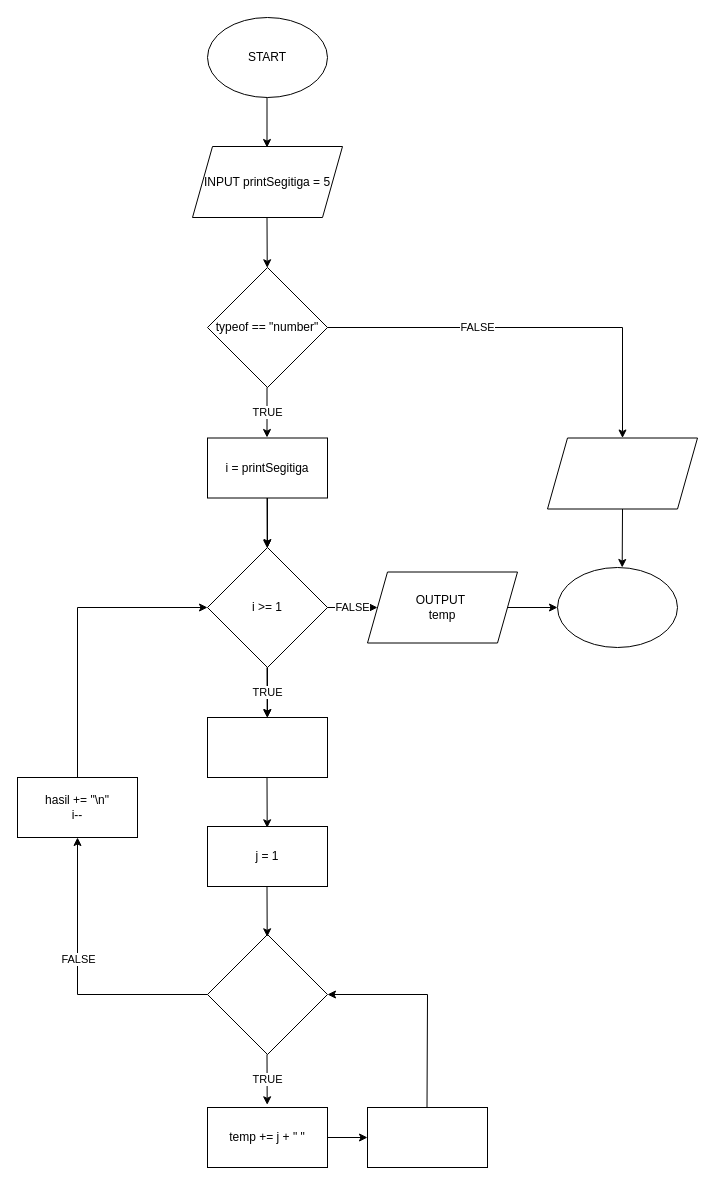
Some shapes in this 715 by 1185 pixel diagram are drawn without their labels. The box of each missing label's shape, as (x1, y1, x2, y2) in pixels:
END: (556, 566, 678, 648)
j <= i: (206, 934, 328, 1054)
j = j + 1: (366, 1106, 488, 1168)
OUTPUT "Data harus Number": (546, 437, 698, 509)
x = x - 1 temp = " ": (206, 716, 328, 778)
